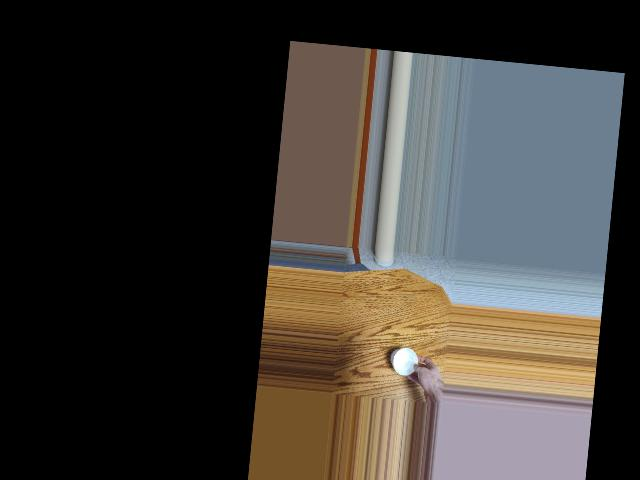cotage: (387, 341, 420, 376)
